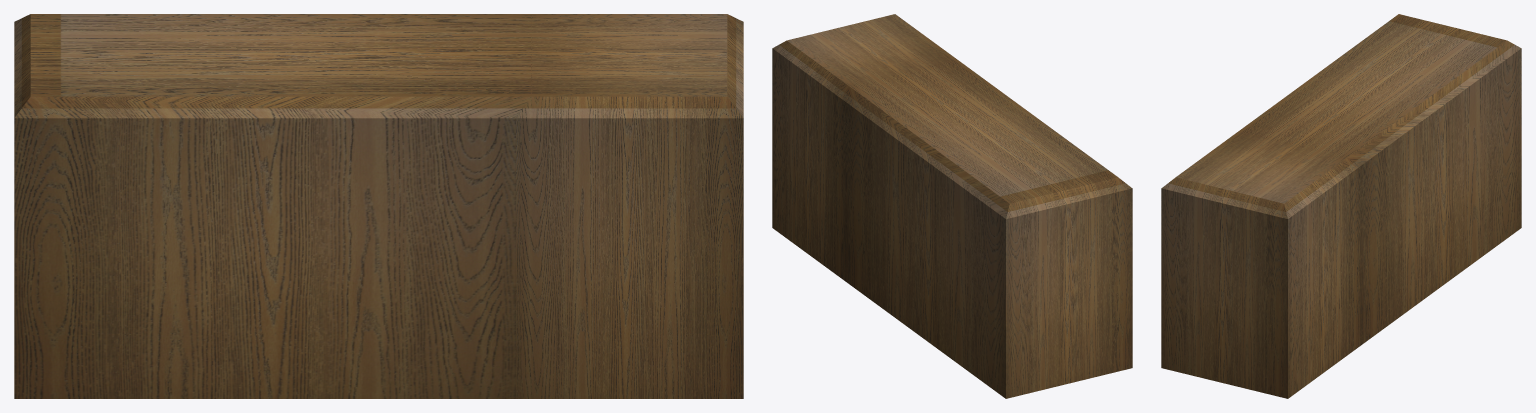
Rendered from Obstacle_053.obj.
The picture shows the model from 3 angles, left to right: view 1: azimuth 30°, elevation 25°; view 2: azimuth 150°, elevation 25°; view 3: azimuth 270°, elevation 25°; orthographic projection. The views are drawn at different scales.
Parts seen in each view (by area): view 1: Box133; view 2: Box133; view 3: Box133.
Boxes of the visible parts, bbox=[...] form: Box133: bbox=[14, 14, 743, 398]; Box133: bbox=[772, 14, 1132, 398]; Box133: bbox=[1161, 14, 1521, 398].
Bounding box in the file's own units: 90.07 × 39.37 × 67.91.
